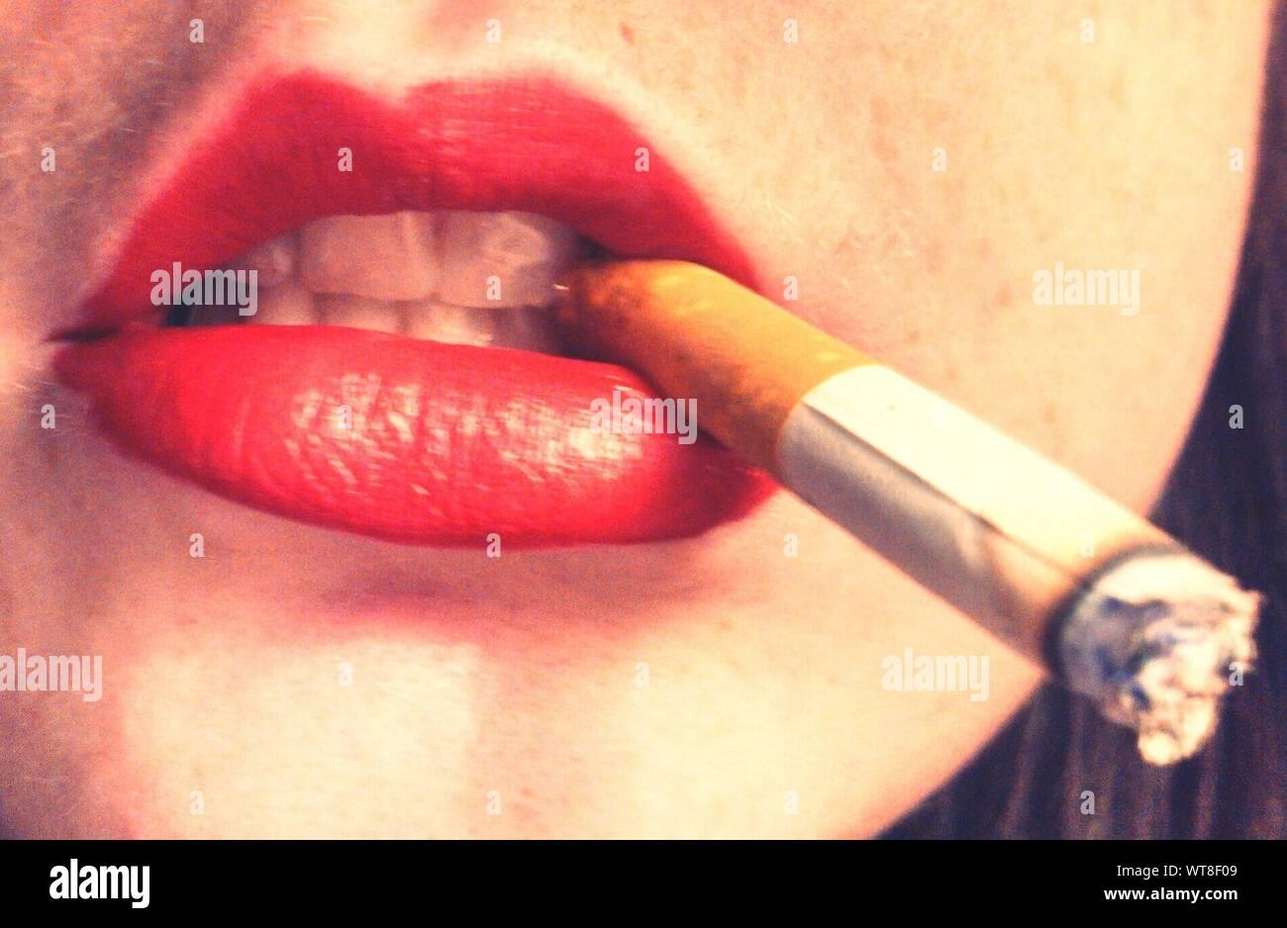cigarette: (556, 261, 1258, 764)
